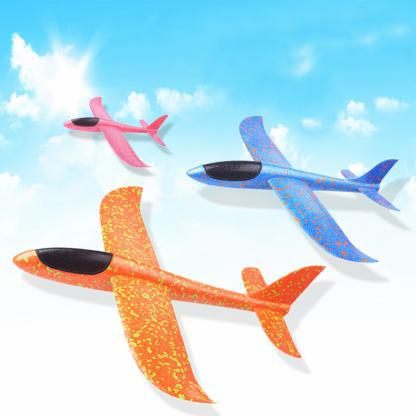CIV_Plane: (12, 185, 320, 405), (183, 112, 403, 276), (56, 94, 166, 172)
